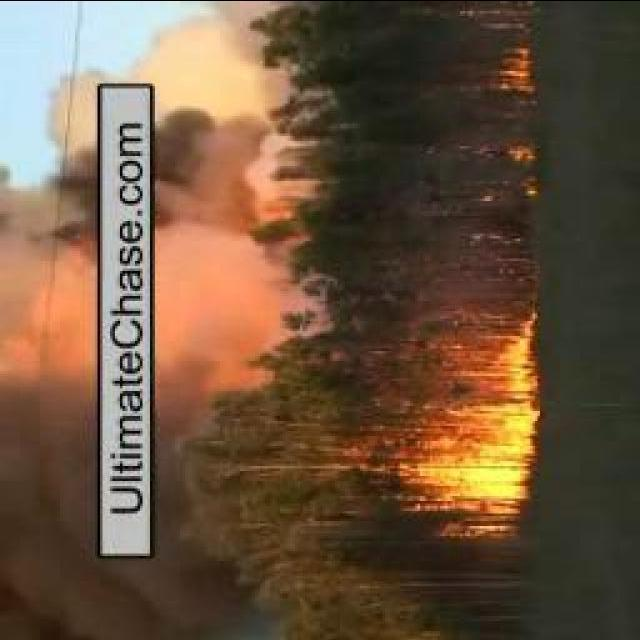Fire: (418, 311, 538, 511), (508, 134, 541, 199), (492, 48, 536, 96)
